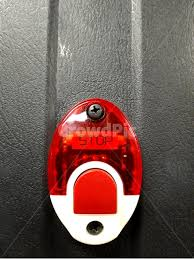bell: (47, 98, 143, 245)
